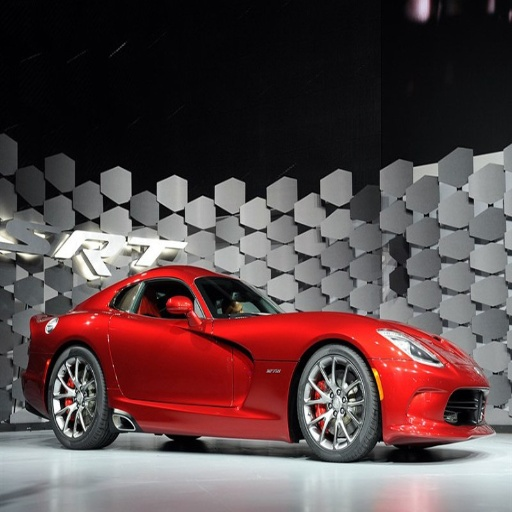front_right_door: (140, 277, 188, 343)
trunk: (180, 294, 254, 386)
